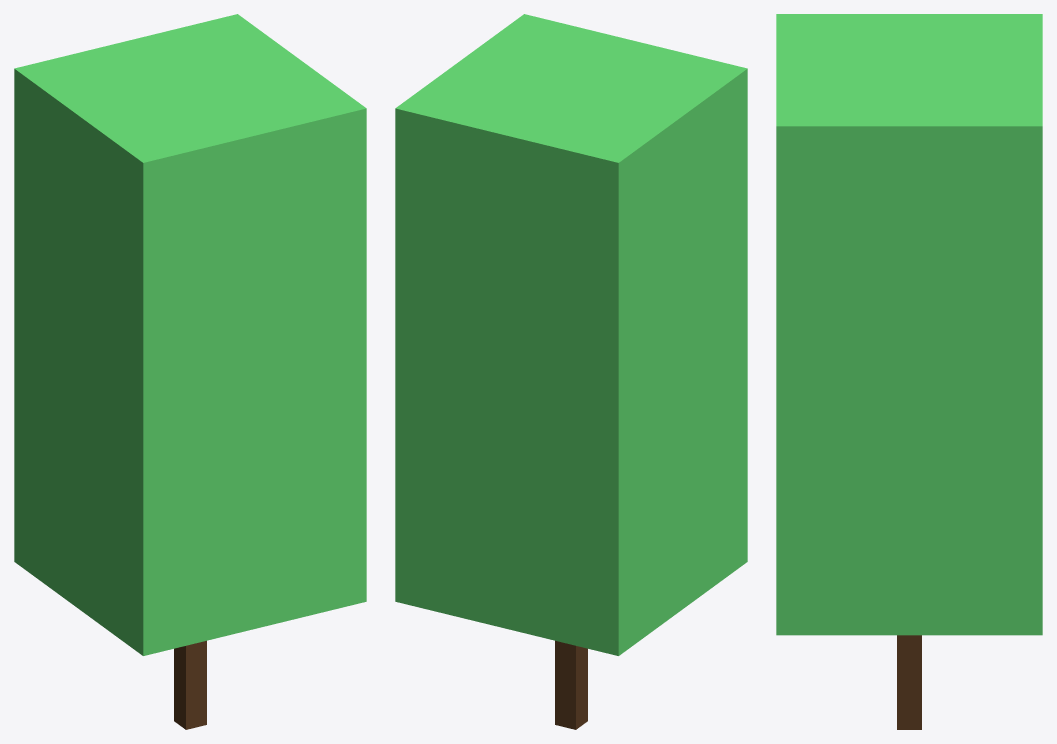
The model's file is GreenTree_01.fbx.
3 renders of one model, left to right at view 1: azimuth 30°, elevation 25°; view 2: azimuth 150°, elevation 25°; view 3: azimuth 270°, elevation 25°, orthographic. The views are drawn at different scales.
Visible parts, largest first — view 1: TreeLeaves, TreeRoot; view 2: TreeLeaves, TreeRoot; view 3: TreeLeaves, TreeRoot.
Part boxes in pixels (left/top/right/bottom): TreeLeaves: left=14, top=14, right=366, bottom=655; TreeRoot: left=174, top=640, right=206, bottom=729; TreeLeaves: left=395, top=14, right=747, bottom=655; TreeRoot: left=555, top=640, right=587, bottom=729; TreeLeaves: left=776, top=14, right=1042, bottom=635; TreeRoot: left=897, top=635, right=921, bottom=729.
Size of the model in its own units: 161 by 161 by 438.
